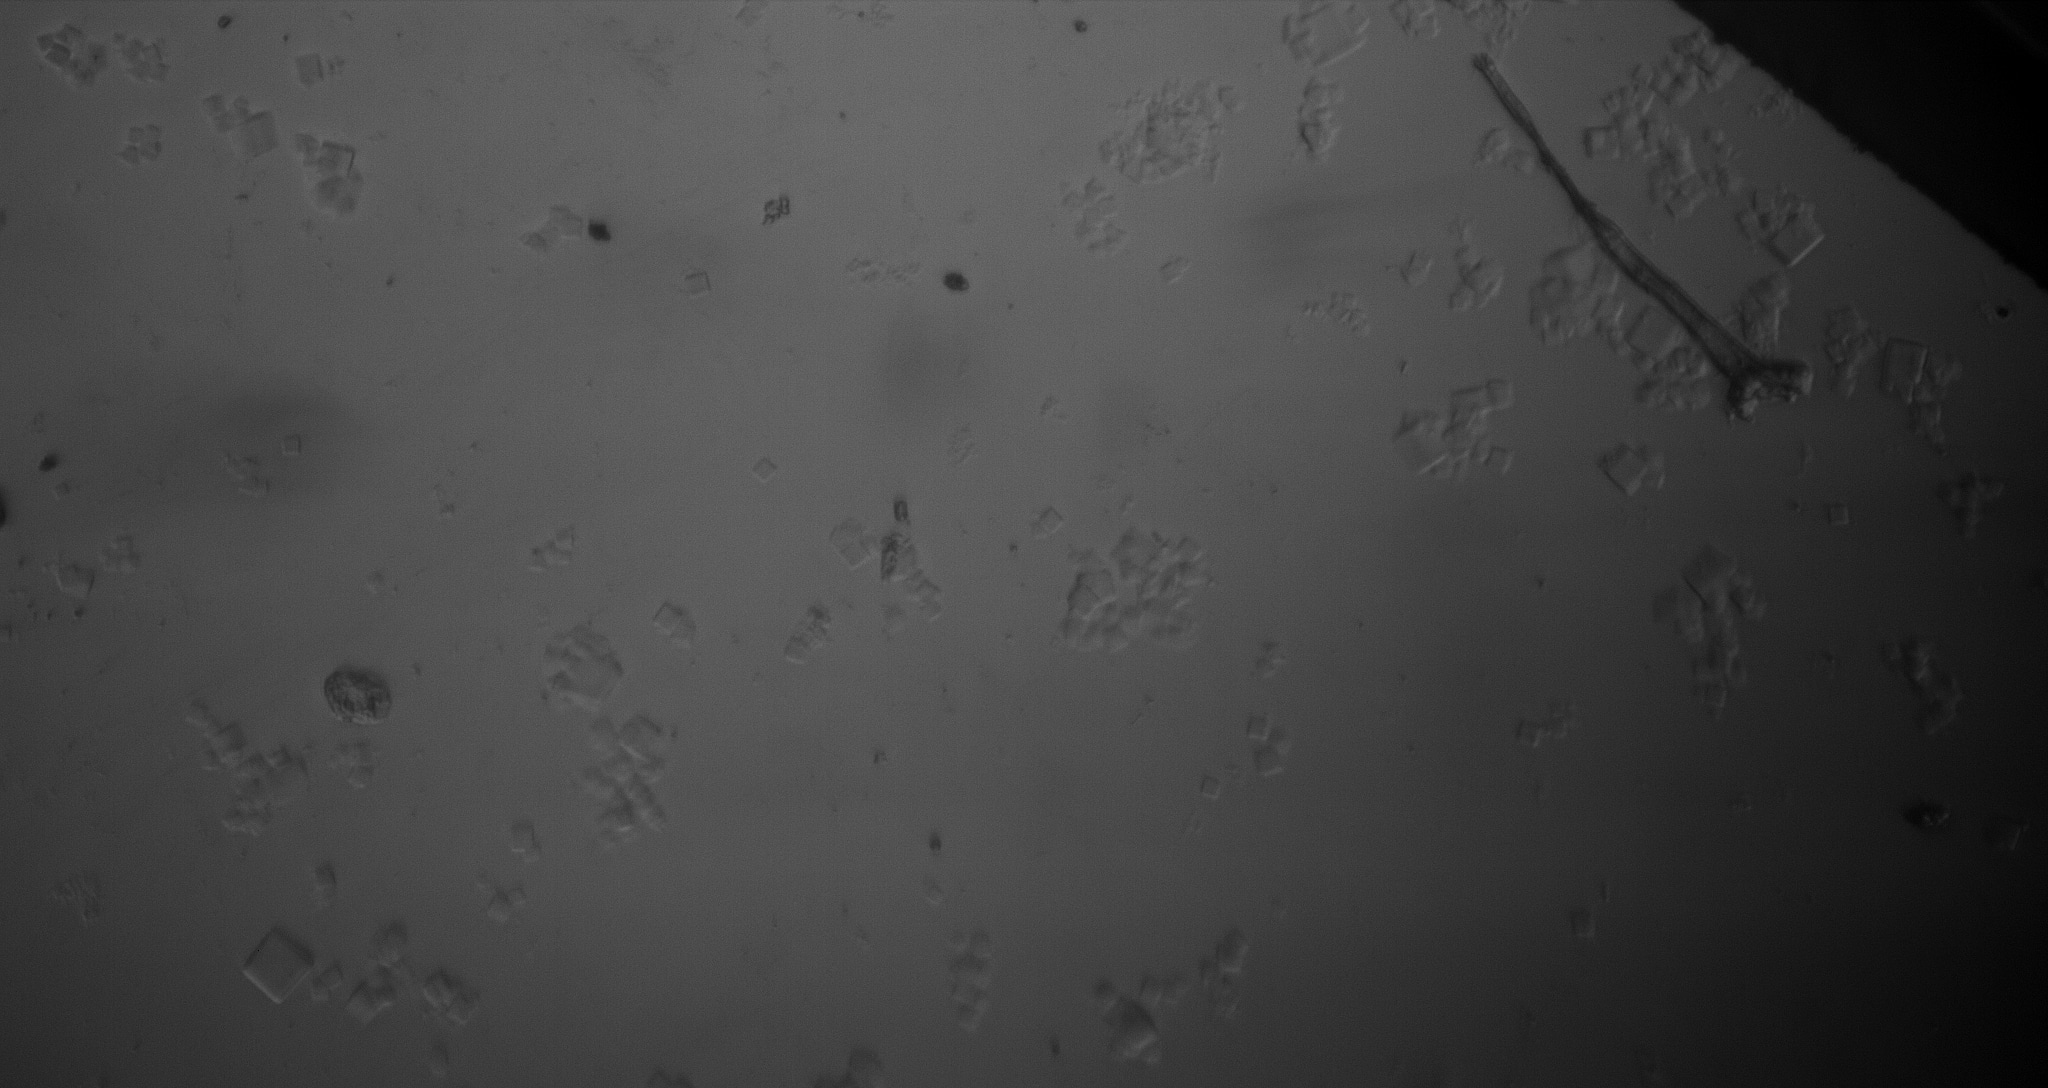square: (238, 925, 316, 1004), (1388, 415, 1453, 478), (1596, 440, 1648, 501), (293, 51, 328, 89), (653, 602, 685, 635), (1253, 745, 1283, 780), (507, 824, 536, 858), (681, 271, 714, 301), (1036, 504, 1065, 535), (750, 457, 780, 484), (1245, 713, 1272, 742), (279, 432, 305, 461), (1196, 776, 1220, 797)
